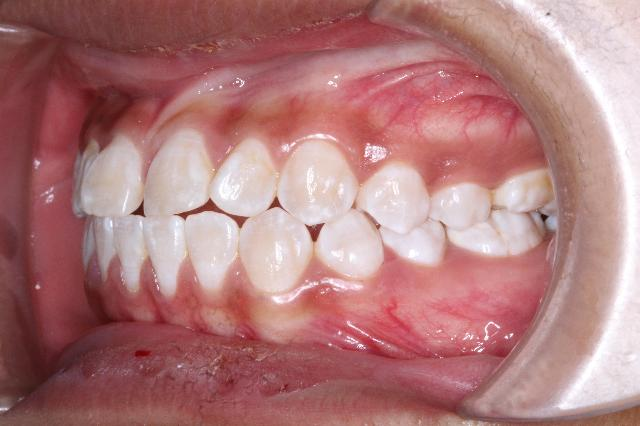canine class I: (240, 136, 386, 304)
molar class III 1/2: (446, 152, 566, 262)
